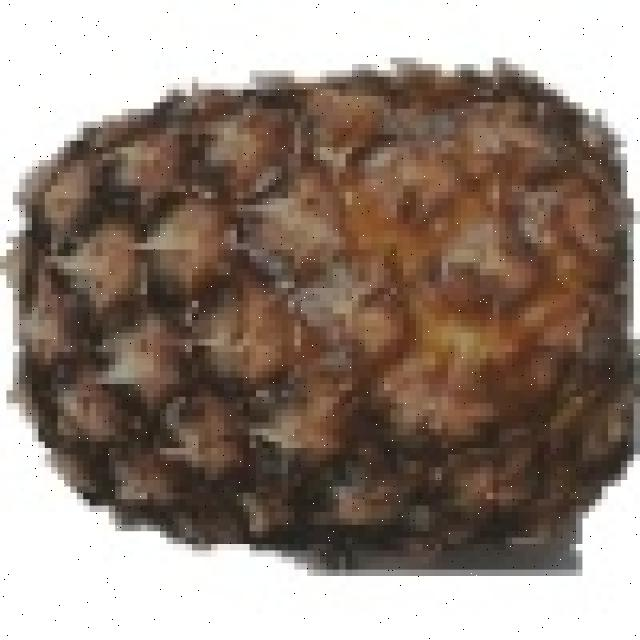pineapple: (13, 58, 621, 557)
